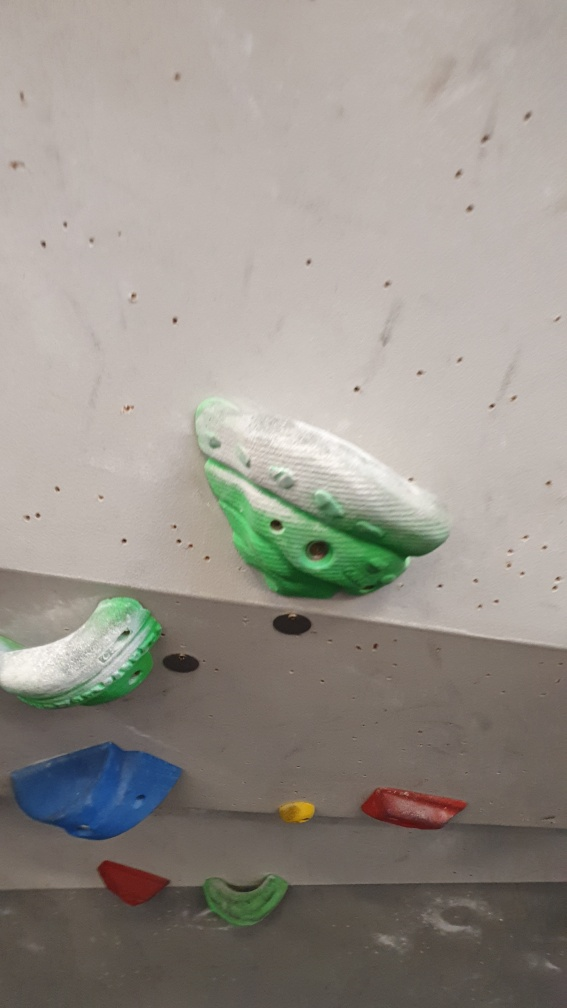Crimp: (364, 776, 471, 836)
Hand Start: (162, 648, 202, 676), (274, 612, 312, 638)
Jug: (194, 392, 450, 607), (1, 591, 163, 717), (199, 868, 288, 928)
Pinch: (14, 740, 184, 843)
